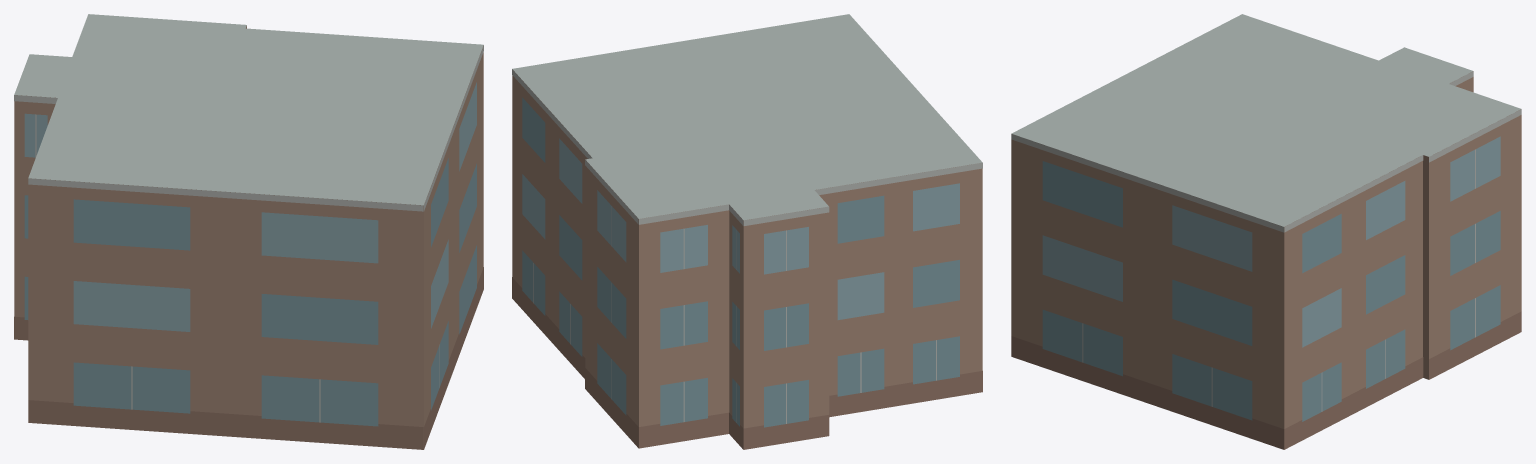
File: survey-upis-32818434.glb
3 renders of one model, left to right at view 1: azimuth 30°, elevation 25°; view 2: azimuth 150°, elevation 25°; view 3: azimuth 270°, elevation 25°, orthographic. The views are drawn at different scales.
Visible parts, largest first — view 1: survey-upis-32818434.tmp; view 2: survey-upis-32818434.tmp; view 3: survey-upis-32818434.tmp.
Boxes of the visible parts, box(x1,y1,x2,y2) form: survey-upis-32818434.tmp: box(14, 14, 483, 449); survey-upis-32818434.tmp: box(512, 14, 982, 449); survey-upis-32818434.tmp: box(1011, 14, 1521, 449).
Bounding box in the file's own units: 19.46 × 9.5 × 19.72.
